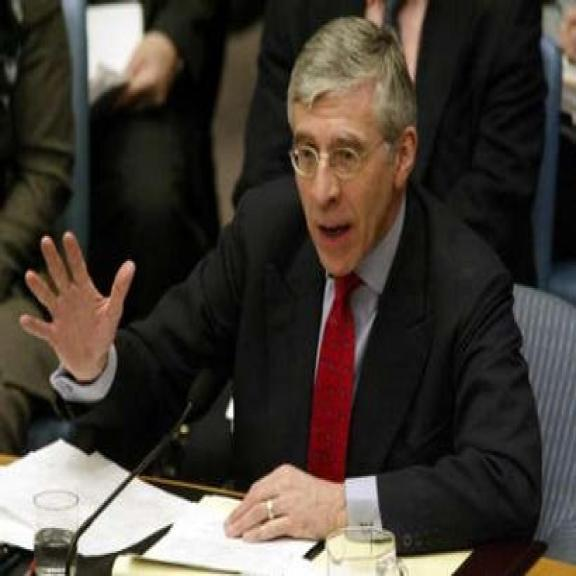face: (286, 95, 420, 282)
